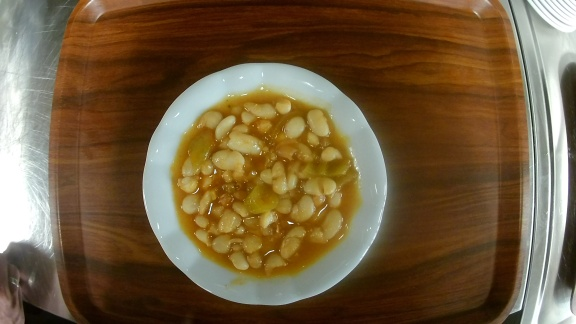kurufasulye: (142, 62, 387, 306)
